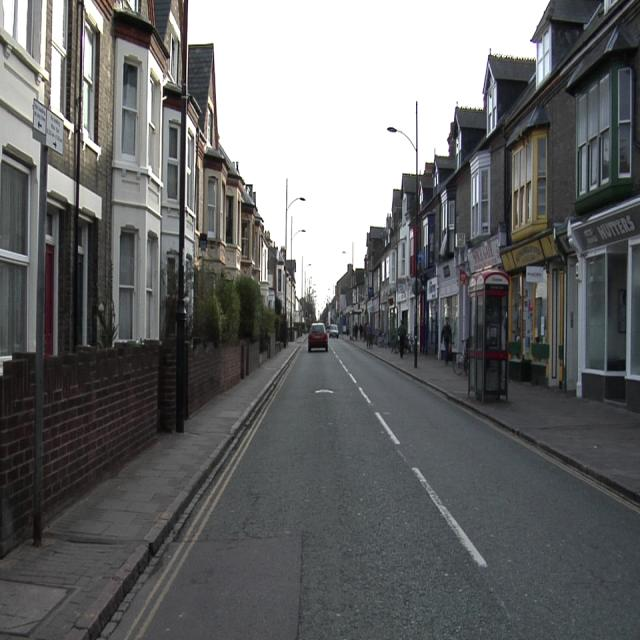Building: (325, 0, 639, 404), (4, 0, 291, 357)
Car: (308, 324, 327, 351), (329, 325, 338, 337)
Road: (100, 340, 636, 638)
